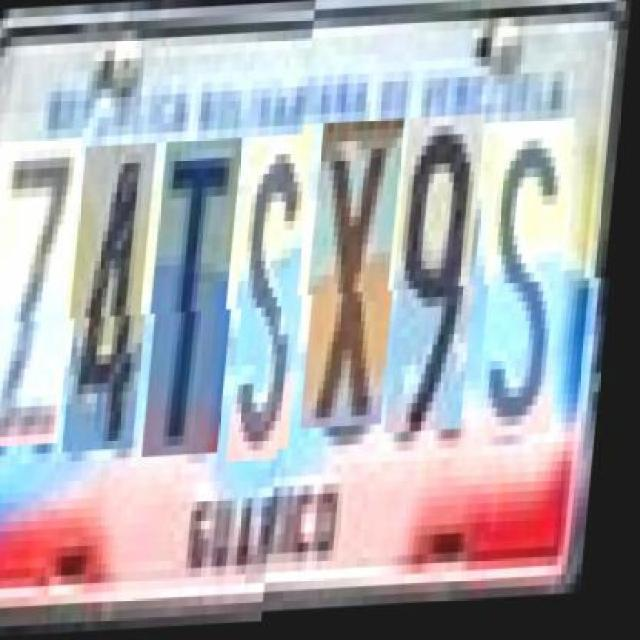4: (70, 144, 164, 453)
9: (393, 129, 492, 449)
s: (483, 134, 583, 454), (236, 137, 321, 465)
t: (151, 140, 251, 460)
x: (308, 133, 412, 442)
z: (0, 138, 89, 448)
